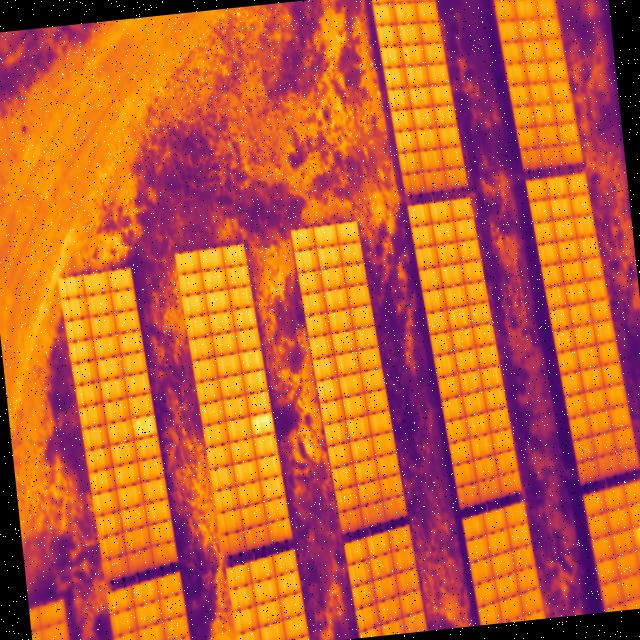Hotspot: (250, 412, 274, 434), (132, 415, 154, 437), (632, 523, 640, 544)
